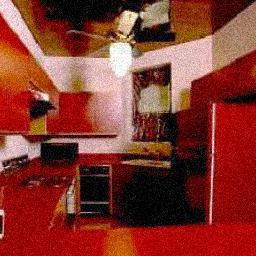Electrodomestico: (171, 111, 256, 220), (22, 175, 81, 224)
